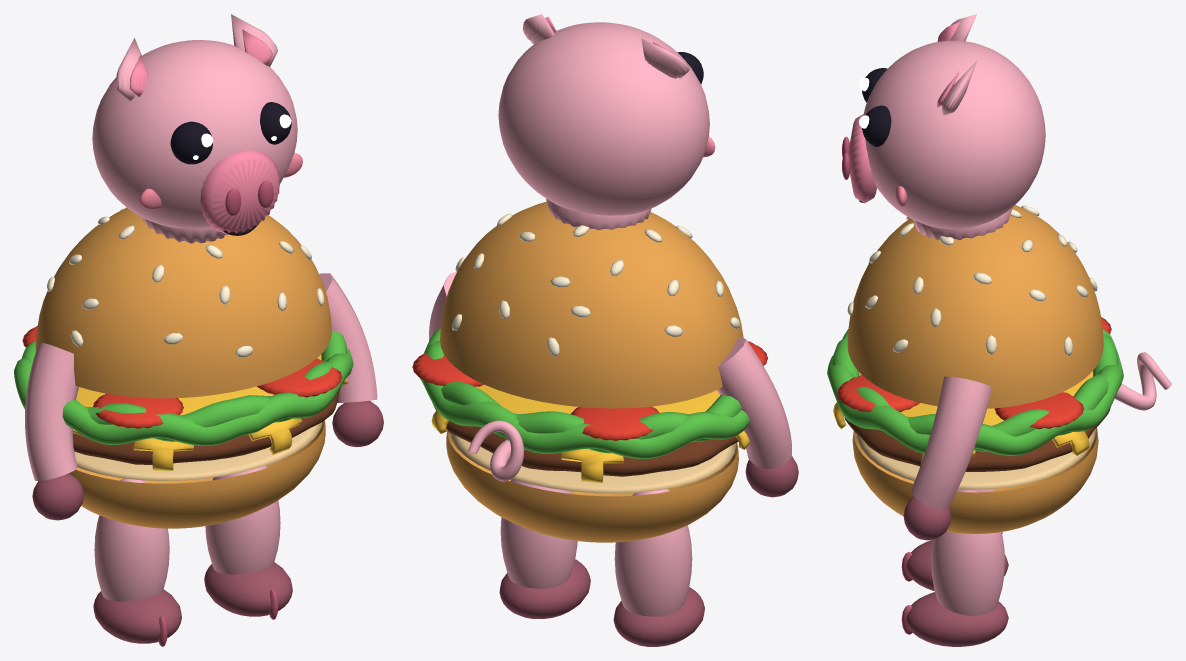
File: pilot_gris2_burger.glb
3 views of the same model, side by side, from view 1: azimuth 30°, elevation 25°; view 2: azimuth 150°, elevation 25°; view 3: azimuth 270°, elevation 25° (orthographic). The views are drawn at different scales.
Parts seen in each view (by area): view 1: kropp, hode, bein_vf, vinge_v, bein_hf, vinge_h; view 2: kropp, hode, bein_vf, bein_hf, vinge_v, hale, vinge_h; view 3: kropp, hode, bein_hf, vinge_h, hale, bein_vf.
Part boxes in pixels (<box>): kropp: <box>14,207,353,528</box>; hode: <box>92,14,302,243</box>; bein_vf: <box>93,478,181,646</box>; vinge_v: <box>25,342,83,520</box>; bein_hf: <box>204,465,292,619</box>; vinge_h: <box>319,273,383,447</box>; kropp: <box>412,201,767,542</box>; hode: <box>498,14,715,229</box>; bein_vf: <box>613,489,704,646</box>; bein_hf: <box>499,479,590,618</box>; vinge_v: <box>717,338,798,497</box>; hale: <box>468,420,524,481</box>; vinge_h: <box>429,271,456,340</box>; kropp: <box>827,205,1123,533</box>; hode: <box>842,14,1045,239</box>; bein_hf: <box>901,489,1008,646</box>; vinge_h: <box>903,376,991,540</box>; hale: <box>1114,352,1171,410</box>; bein_vf: <box>901,489,1008,591</box>.
Size of the model in its own units: 1.06 by 1.73 by 0.934.
